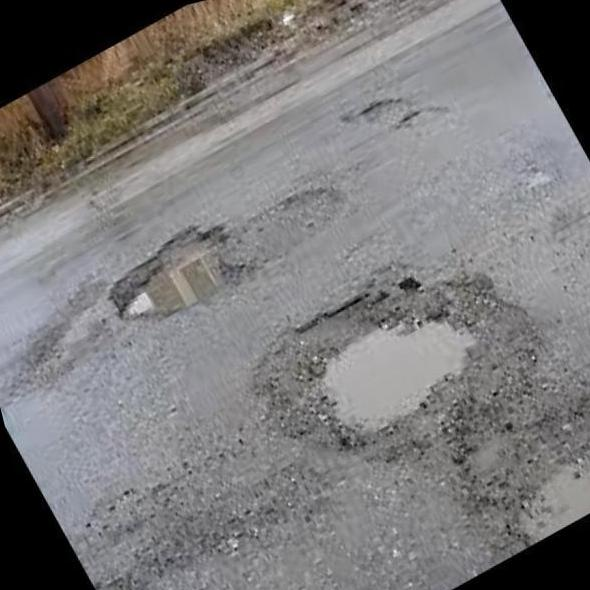pothole: (236, 242, 544, 460), (438, 369, 590, 566), (103, 212, 268, 330), (349, 83, 454, 146)
